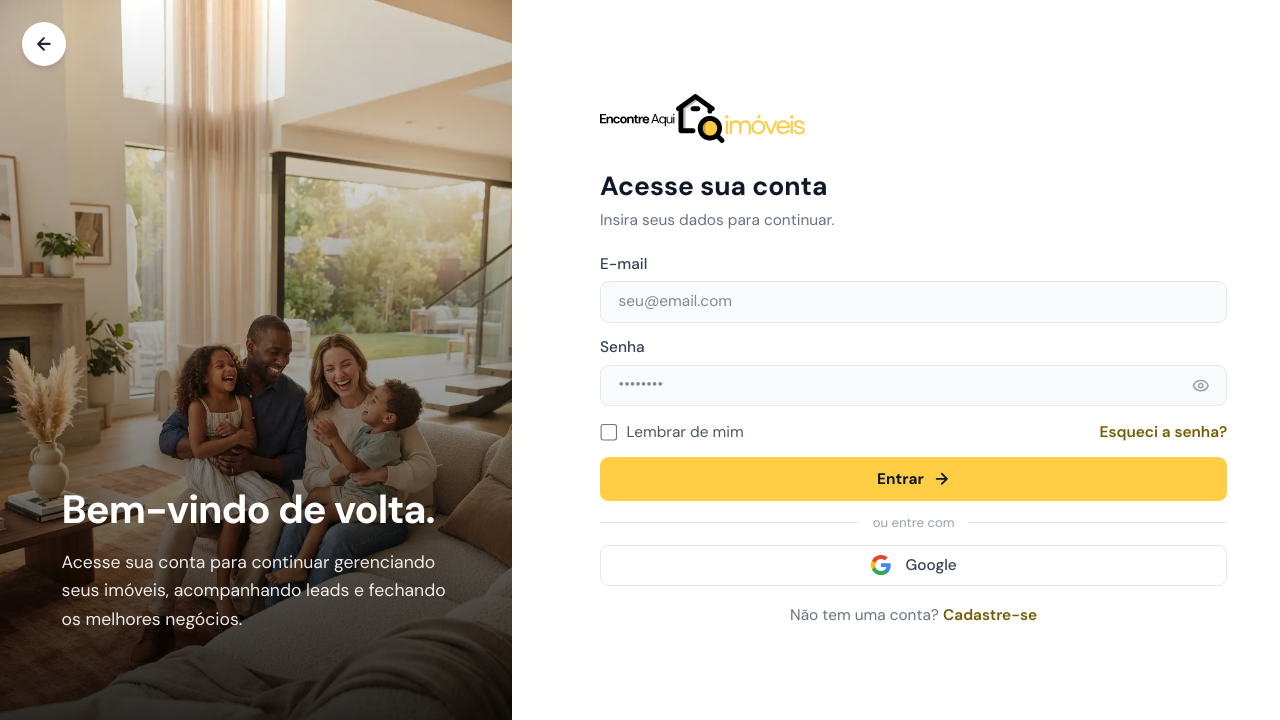
Test: login page › mostra mensagem de divergência de perfil quando backend informa cliente versus corretor
Type "client-user@example.com" into the field labelled "E-mail" at (914, 302), box [600,281,1227,323]
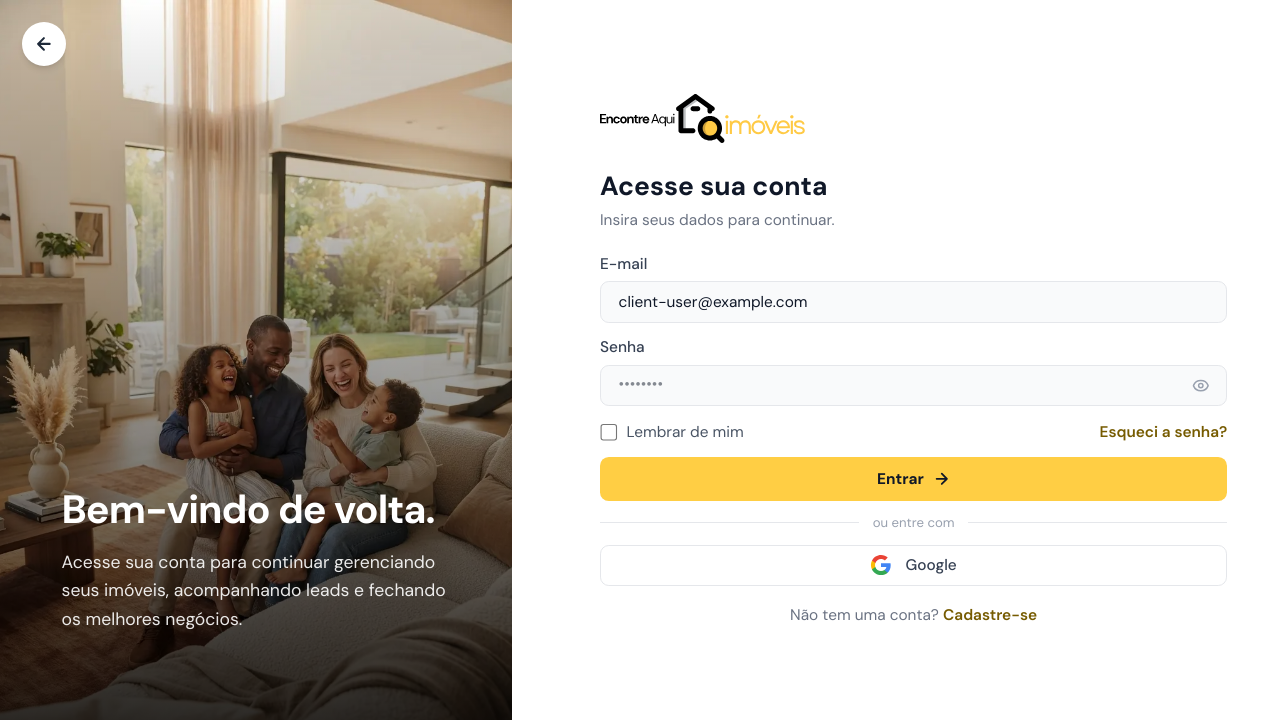
Type "123456" into the password field labelled "Senha" at (914, 385), box [600,364,1227,406]
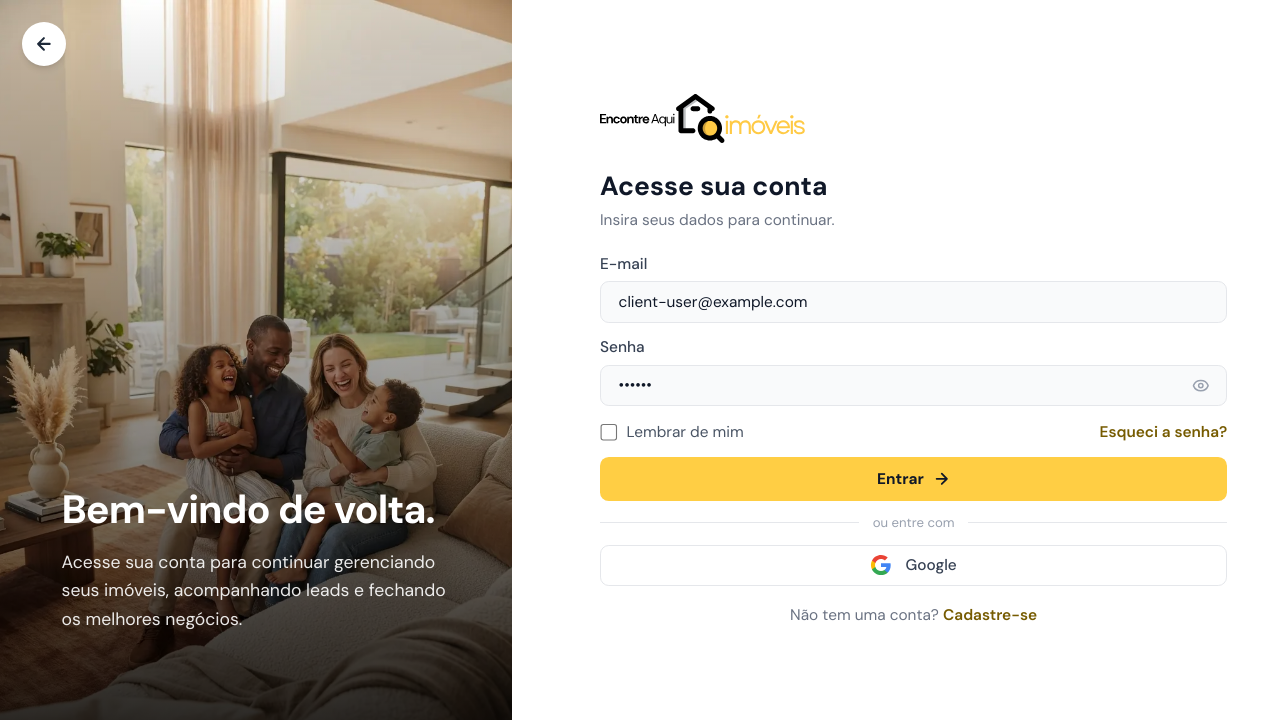
Click the button "Entrar" at (914, 479), box [600,457,1227,501]
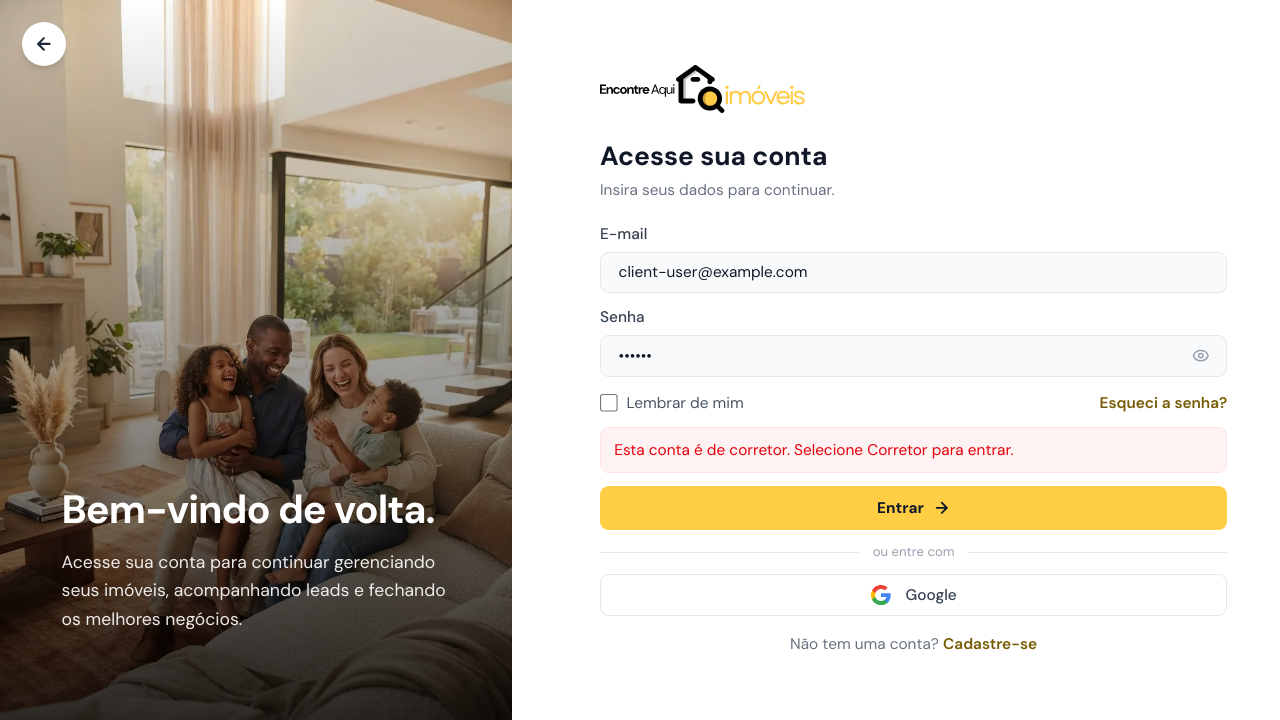
Now the message reads "Esta conta é de corretor. Selecione Corretor para entrar.", box [614,440,1014,460]
